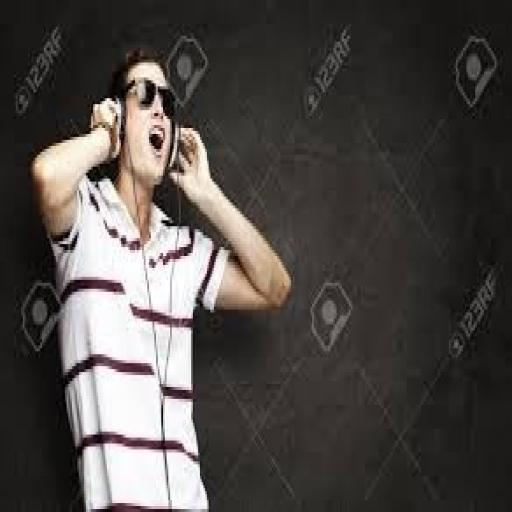listening_to_music: (28, 42, 295, 509)
